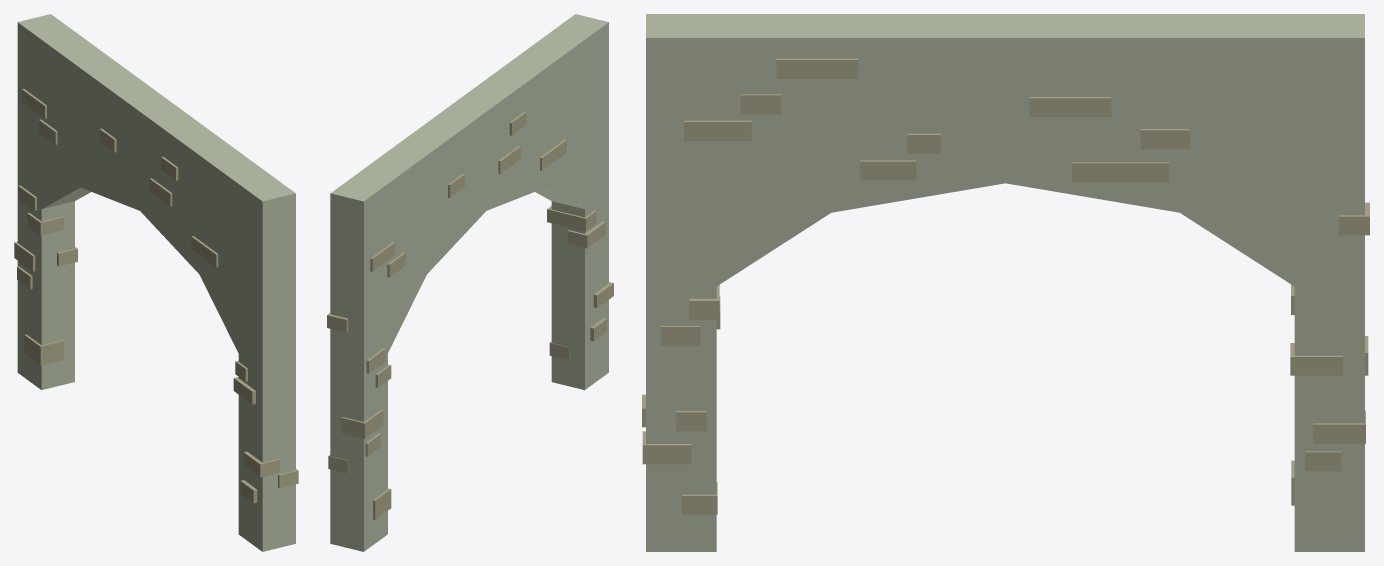
The model's file is gate8m stone1.fbx.
3 renders of one model, left to right at view 1: azimuth 30°, elevation 25°; view 2: azimuth 150°, elevation 25°; view 3: azimuth 270°, elevation 25°, orthographic. The views are drawn at different scales.
Visible parts, largest first — view 1: Gate1.001; view 2: Gate1.001; view 3: Gate1.001.
Boxes of the visible parts, <box> form: Gate1.001: <box>14,14,298,551</box>; Gate1.001: <box>327,14,613,551</box>; Gate1.001: <box>642,14,1369,551</box>.
Size of the model in its own units: 79.79 by 662 by 850.
